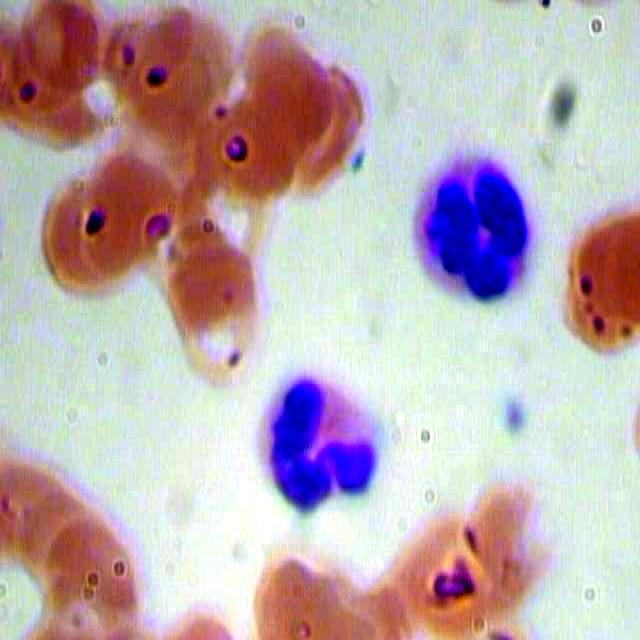Platelets: (495, 397, 534, 447)
RBC: (166, 240, 266, 383), (33, 169, 133, 312), (557, 200, 640, 363), (244, 22, 337, 142), (17, 1, 111, 91)
WBC: (404, 142, 538, 298), (253, 367, 387, 522)
